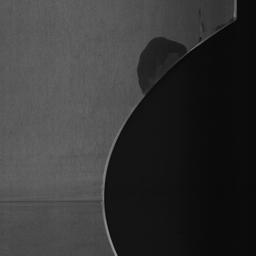Crescent gap: (105, 19, 236, 256)
